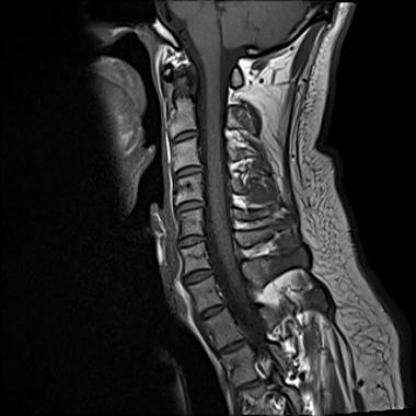Disc Bulgerotation: (174, 158, 203, 184), (183, 264, 214, 288)
